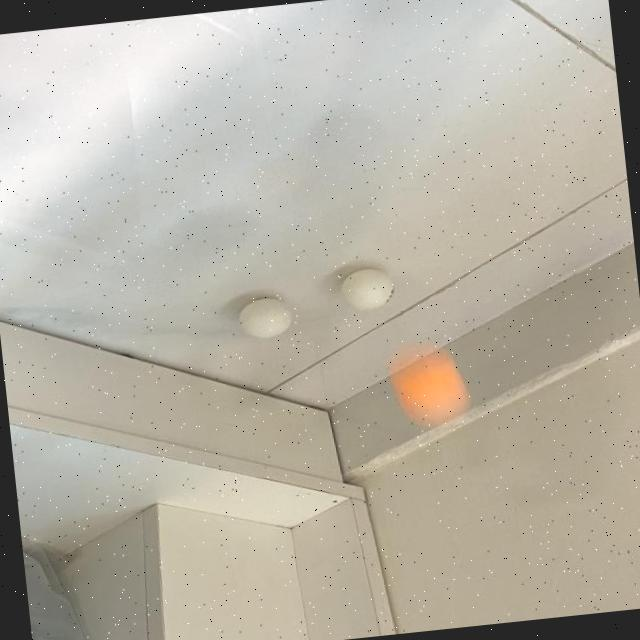ping-pong-ball: (391, 344, 462, 420), (339, 264, 395, 309), (238, 294, 294, 337)
